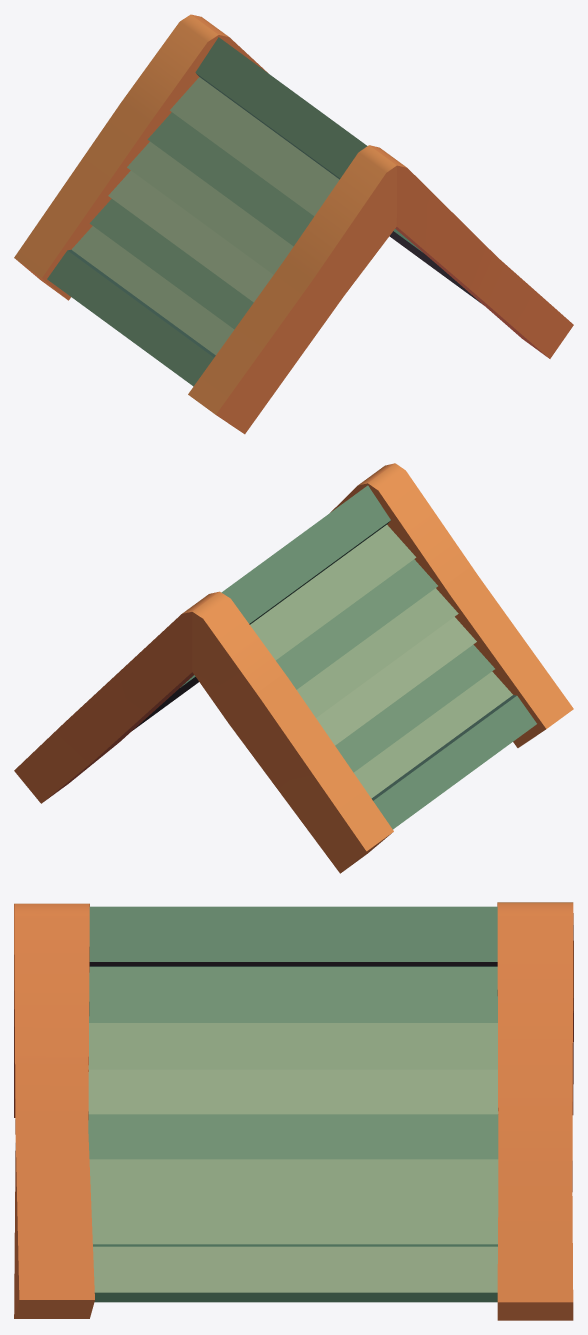
Rendered from Roof03_Green_Wood.glb.
The picture shows the model from 3 angles, top to bottom: view 1: azimuth 30°, elevation 25°; view 2: azimuth 150°, elevation 25°; view 3: azimuth 270°, elevation 25°; orthographic projection. The views are drawn at different scales.
Parts seen in each view (by area): view 1: Roof03_Green_Wood; view 2: Roof03_Green_Wood; view 3: Roof03_Green_Wood.
Part boxes in pixels (x1,y1,x2,y2): Roof03_Green_Wood: (14,14,573,434); Roof03_Green_Wood: (14,463,573,873); Roof03_Green_Wood: (14,902,573,1320).
Bounding box in the file's own units: 2.41 × 1.48 × 2.38.
Materials: 1 (1 with a texture image).
